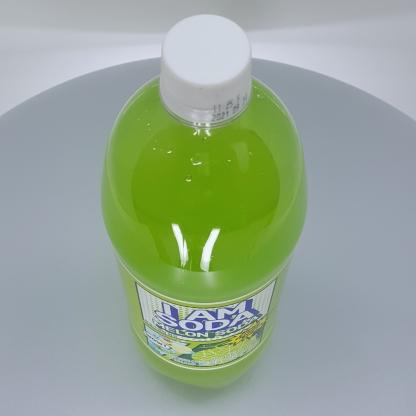-----------: (100, 14, 308, 389)
